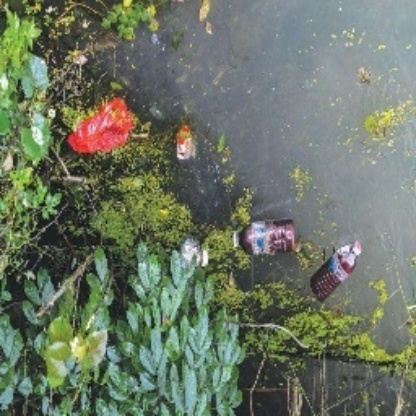bottle: (309, 241, 363, 305), (232, 219, 298, 257)
plastic-bag: (67, 98, 137, 157)
